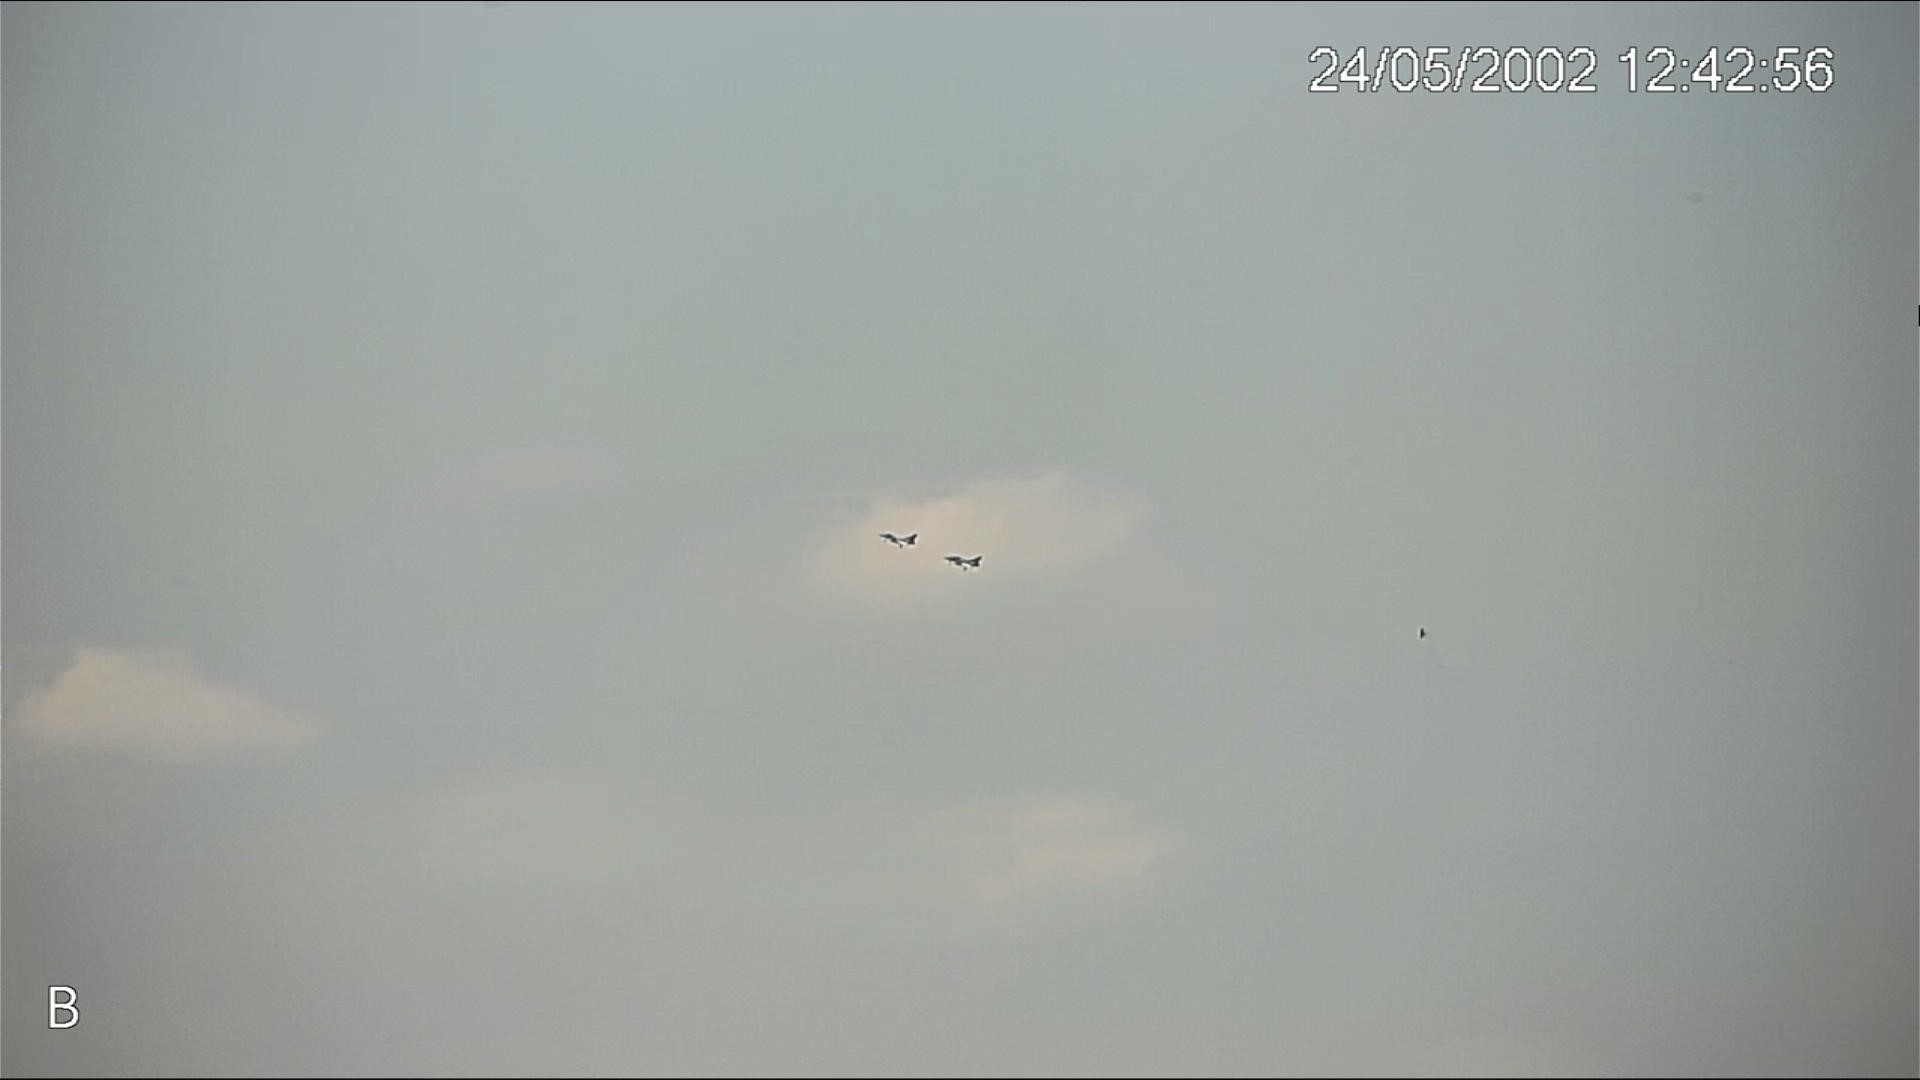SU_30: (878, 531, 918, 551), (943, 554, 982, 574)
